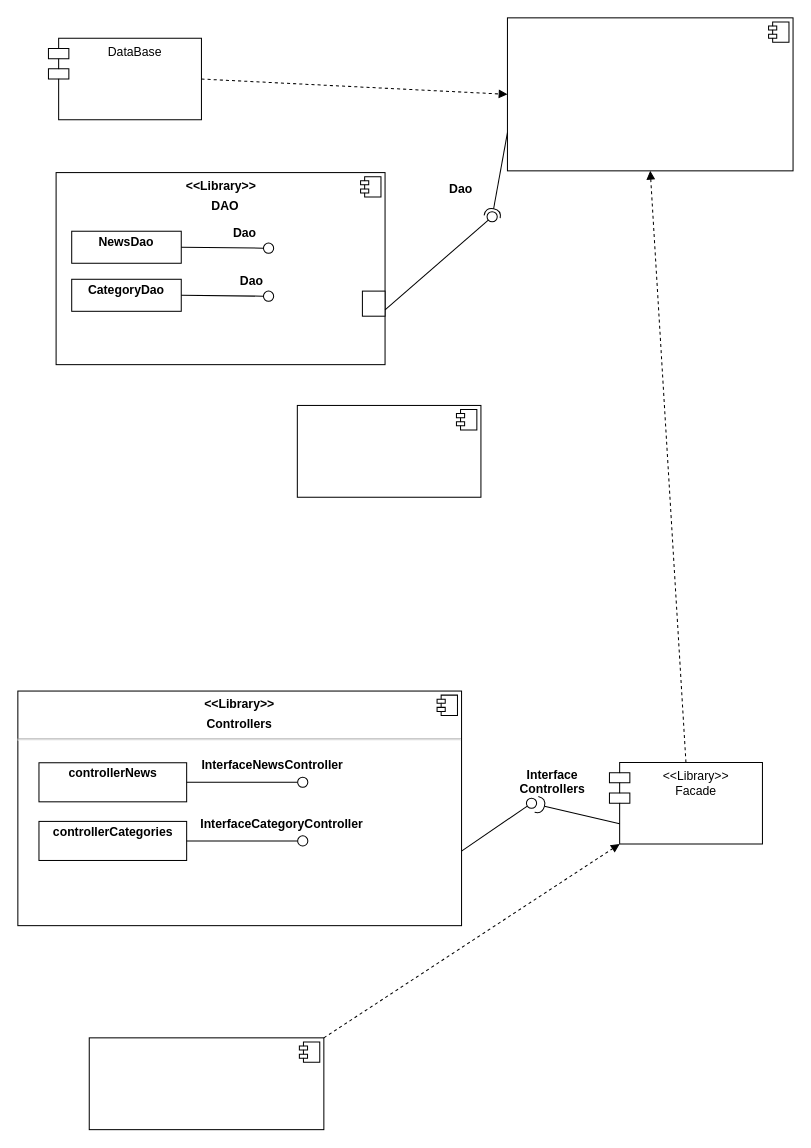
Image size: 811x1148. Some labels were removed from this diagram. Here are the shapes that lost their labels. From the top down, the centre of each, then its label:
the point at 649,94: <<Library>> Model
the point at 388,450: <<Library>> Do News
the point at 206,1083: InfoObjects
